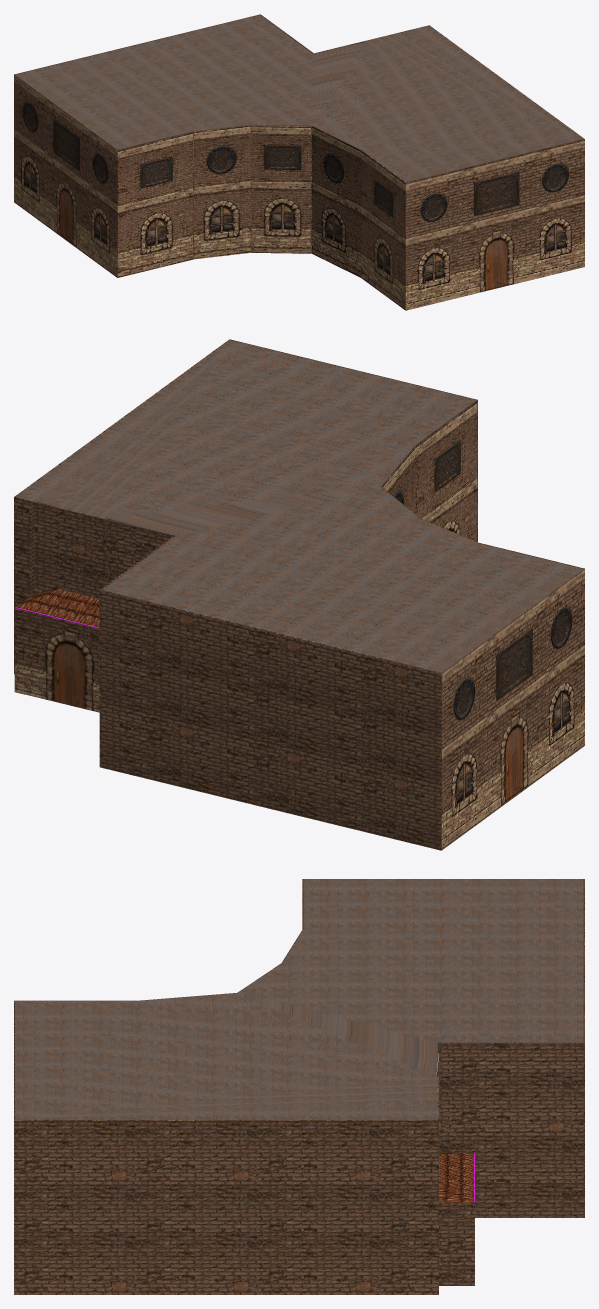
Rendered from tos-familiars.dae.
The picture shows the model from 3 angles, top to bottom: view 1: azimuth 30°, elevation 25°; view 2: azimuth 150°, elevation 25°; view 3: azimuth 270°, elevation 25°; orthographic projection. The views are drawn at different scales.
Parts seen in each view (by area): view 1: Familiars; view 2: Familiars; view 3: Familiars.
Part boxes in pixels (x1,y1,x2,y2): Familiars: (14, 14, 584, 310); Familiars: (14, 339, 584, 850); Familiars: (14, 879, 584, 1294).
Size of the model in its own units: 1.62 by 1.62 by 0.548.
1 material, 1 textured.
